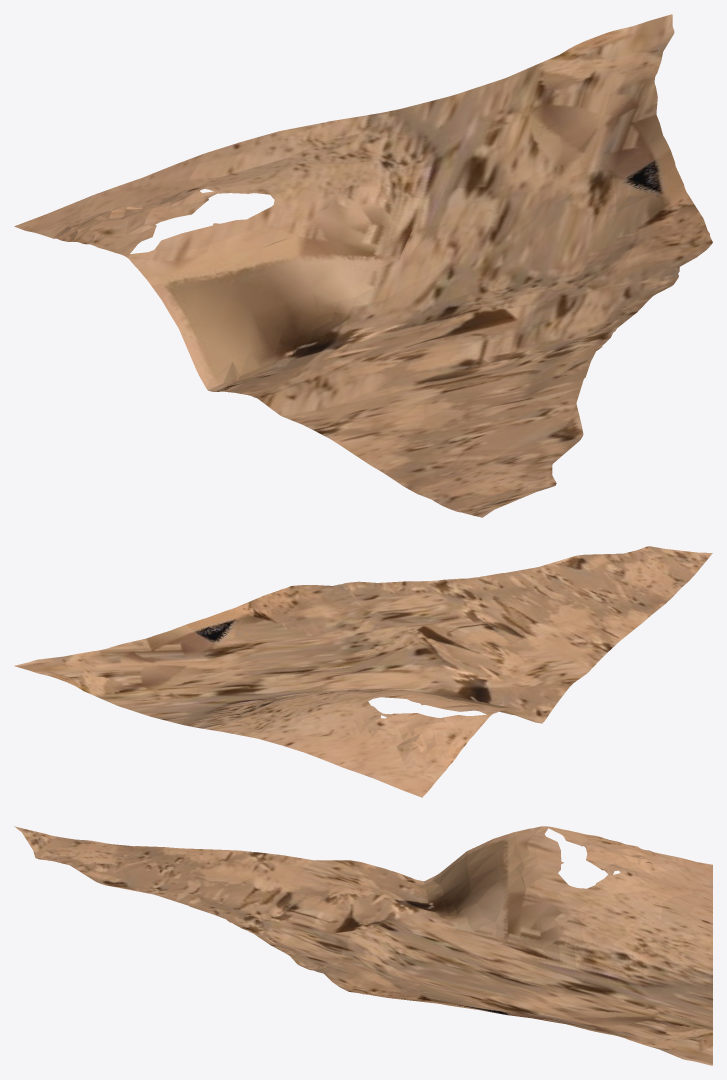
3 views of the same model, one above another, from view 1: azimuth 30°, elevation 25°; view 2: azimuth 150°, elevation 25°; view 3: azimuth 270°, elevation 25° (orthographic). The views are drawn at different scales.
Size of the model in its own units: 2.91 by 0.3122 by 3.59.
Materials: 1 (1 with a texture image).
